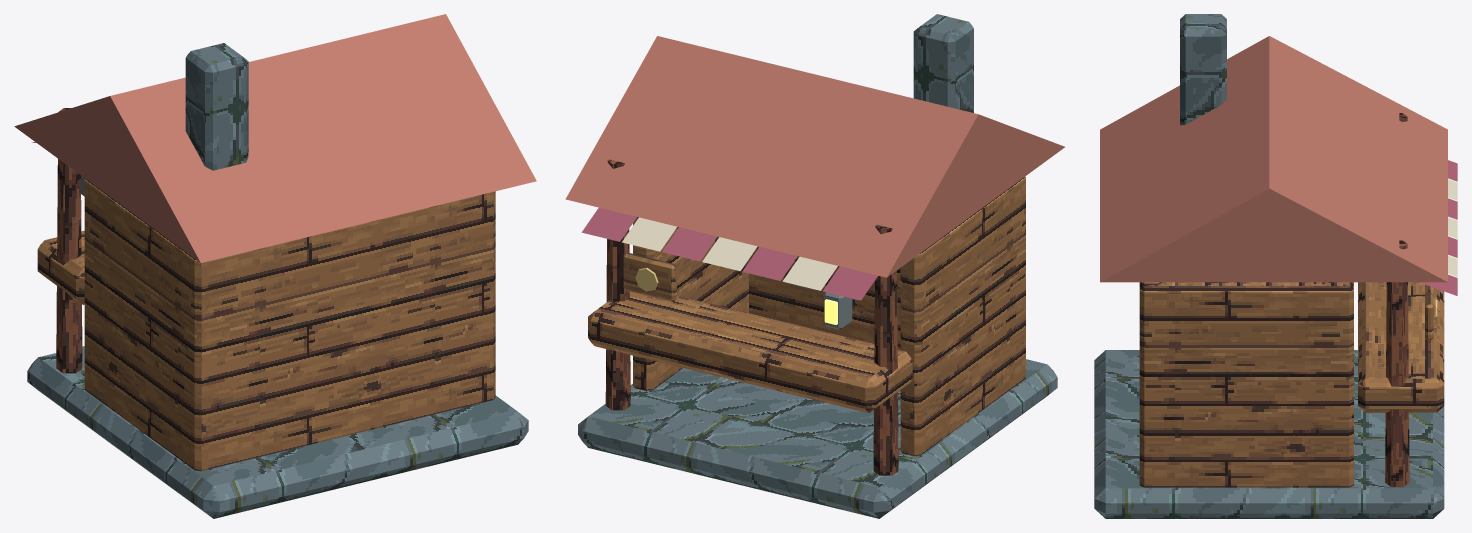
The model's file is loja_mascate.fbx.
The picture shows the model from 3 angles, left to right: view 1: azimuth 30°, elevation 25°; view 2: azimuth 150°, elevation 25°; view 3: azimuth 270°, elevation 25°; orthographic projection. The views are drawn at different scales.
Visible parts, largest first — view 1: bosque_loja_mascate; view 2: bosque_loja_mascate; view 3: bosque_loja_mascate.
Boxes of the visible parts, bbox=[...] form: bosque_loja_mascate: bbox=[14, 14, 536, 518]; bosque_loja_mascate: bbox=[565, 14, 1064, 518]; bosque_loja_mascate: bbox=[1094, 14, 1457, 518].
Bounding box in the file's own units: 192 × 226 × 193.
9 materials, 3 textured.
